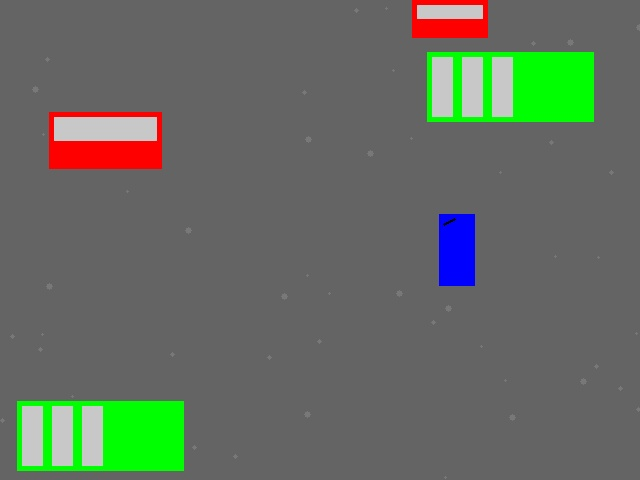bus: (17, 401, 183, 470), (427, 52, 593, 121)
car: (49, 112, 161, 168), (412, 0, 487, 37)
motorcycle: (439, 214, 474, 285)
